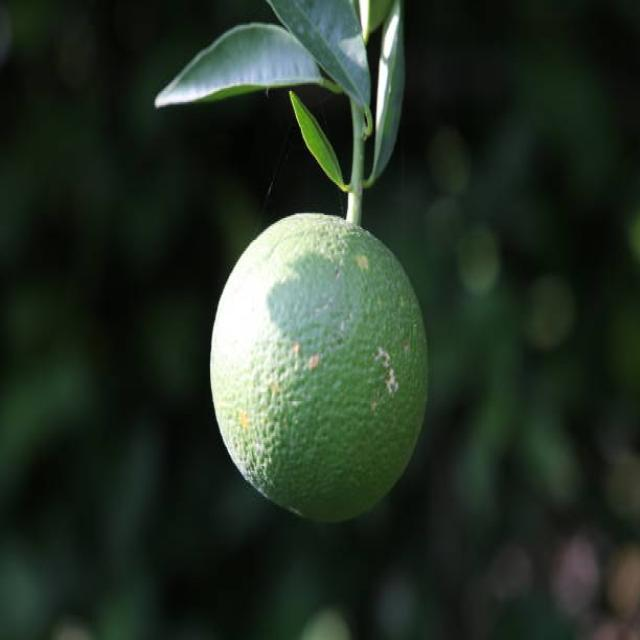Unripe: (210, 208, 433, 526)
